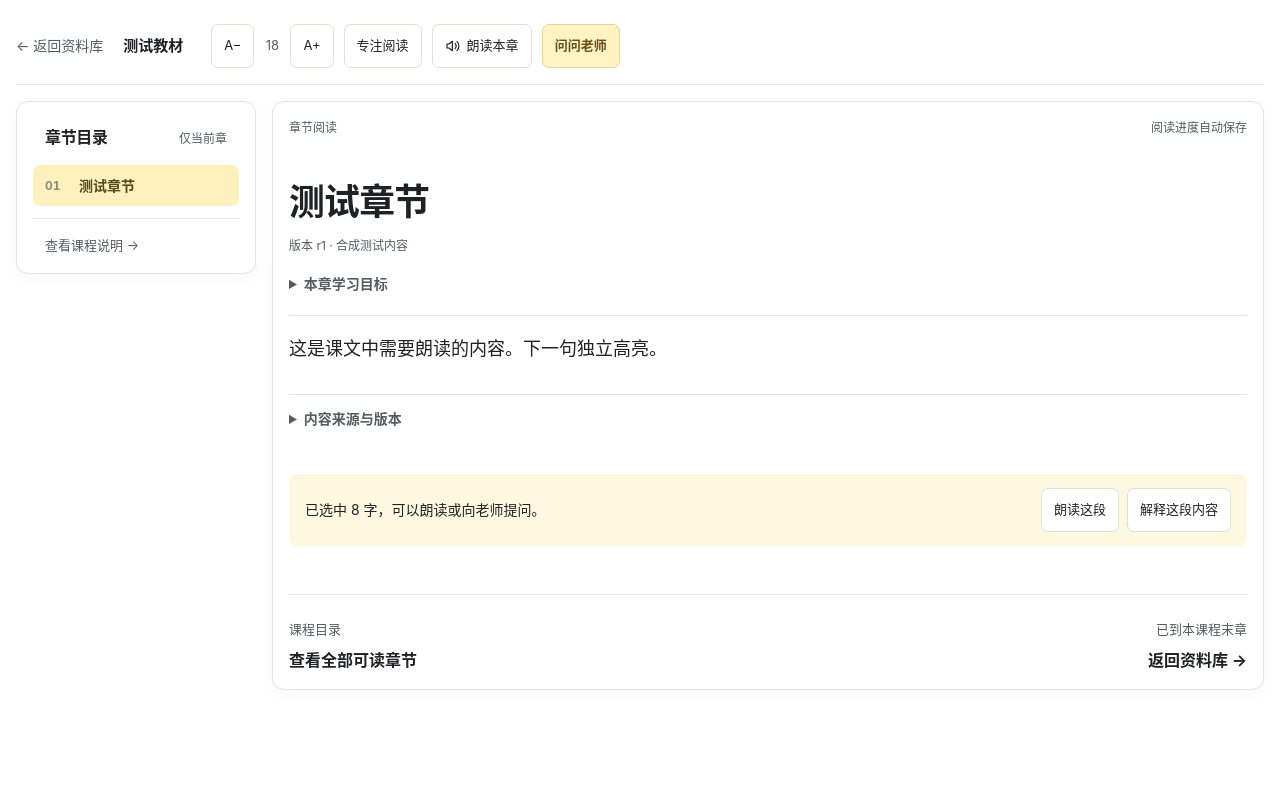
Scenario: chapter page narration integration › reads the validated selection instead of restarting the whole chapter
Click the button "朗读这段": x=1080, y=510 [1041,488,1119,532]
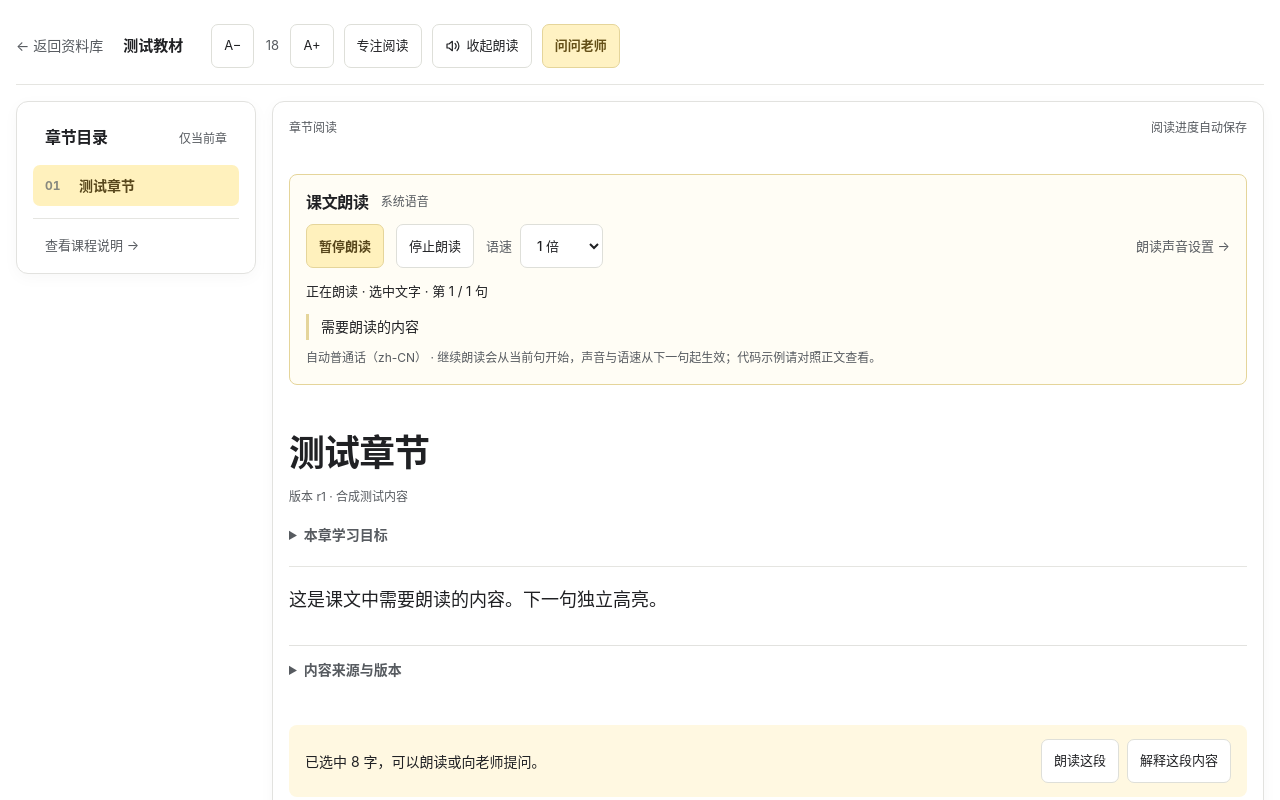
Check: the message shows "选中文字 · 第 1 / 1 句", box [358,283,488,299]
Check: the text "需要朗读的内容" is shown, box [306,314,1230,340]
